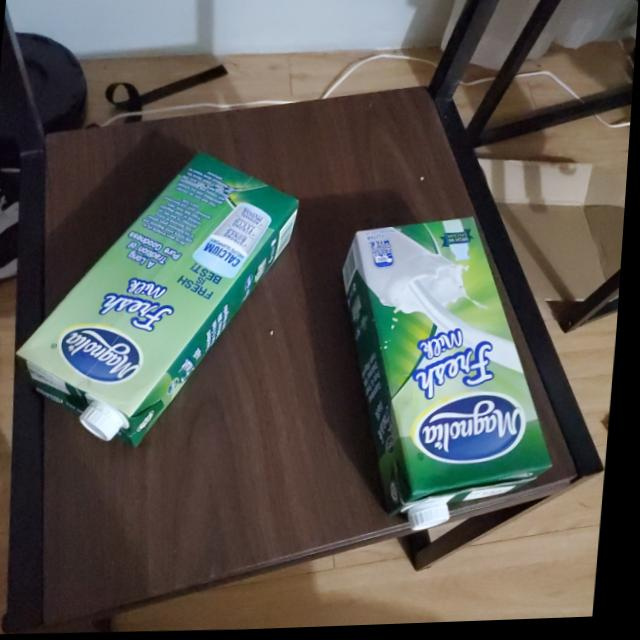milk: (11, 146, 307, 454), (324, 217, 570, 538)
